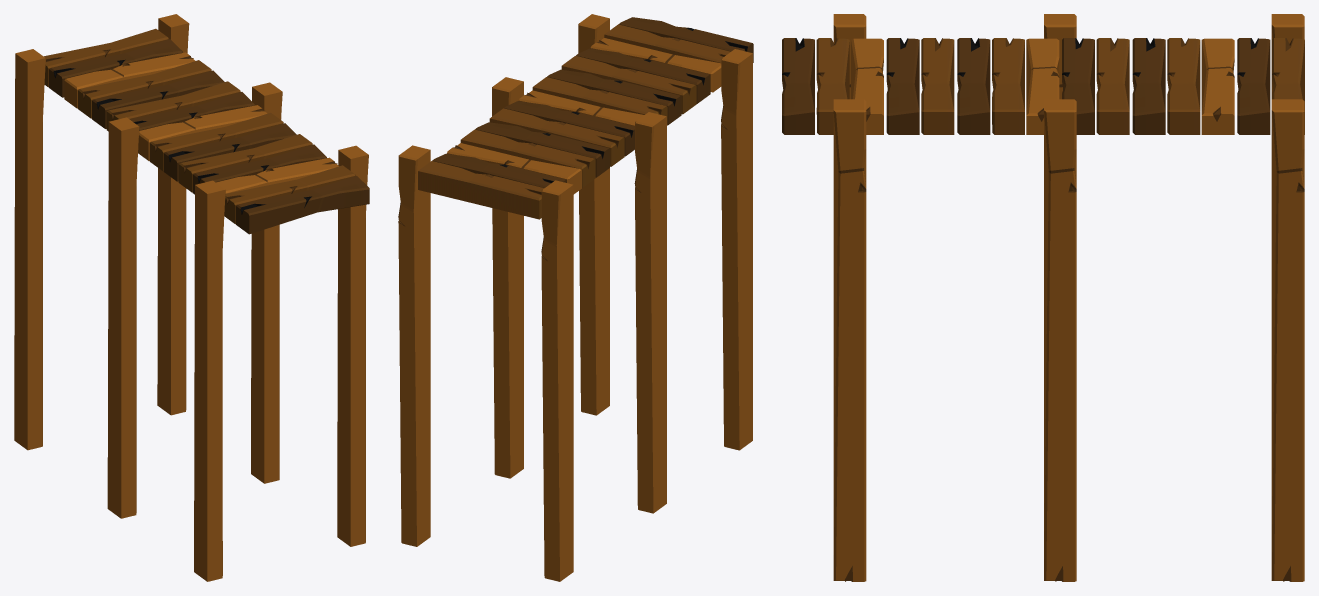
The model's file is PonteMadeiraG.glb.
The picture shows the model from 3 angles, left to right: view 1: azimuth 30°, elevation 25°; view 2: azimuth 150°, elevation 25°; view 3: azimuth 270°, elevation 25°; orthographic projection. The views are drawn at different scales.
Visible parts, largest first — view 1: PonteMadeiraG; view 2: PonteMadeiraG; view 3: PonteMadeiraG.
Boxes of the visible parts, x1,y1,x2,y2 form: PonteMadeiraG: (14,14,369,581); PonteMadeiraG: (398,14,753,581); PonteMadeiraG: (782,14,1304,581).
Bounding box in the file's own units: 2.61 × 5.95 × 5.97.
1 material, 1 textured.
